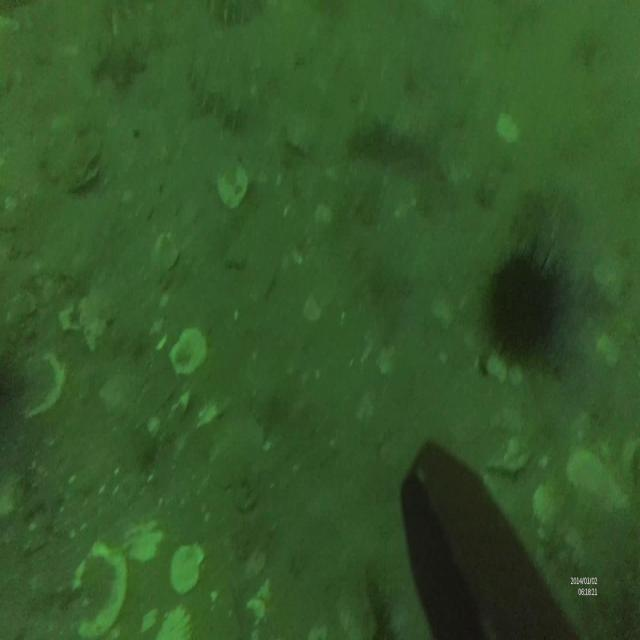echinus: (484, 228, 572, 374)
holothurian: (346, 109, 456, 196), (188, 54, 248, 134), (209, 0, 269, 29)
scallop: (68, 542, 126, 640)
